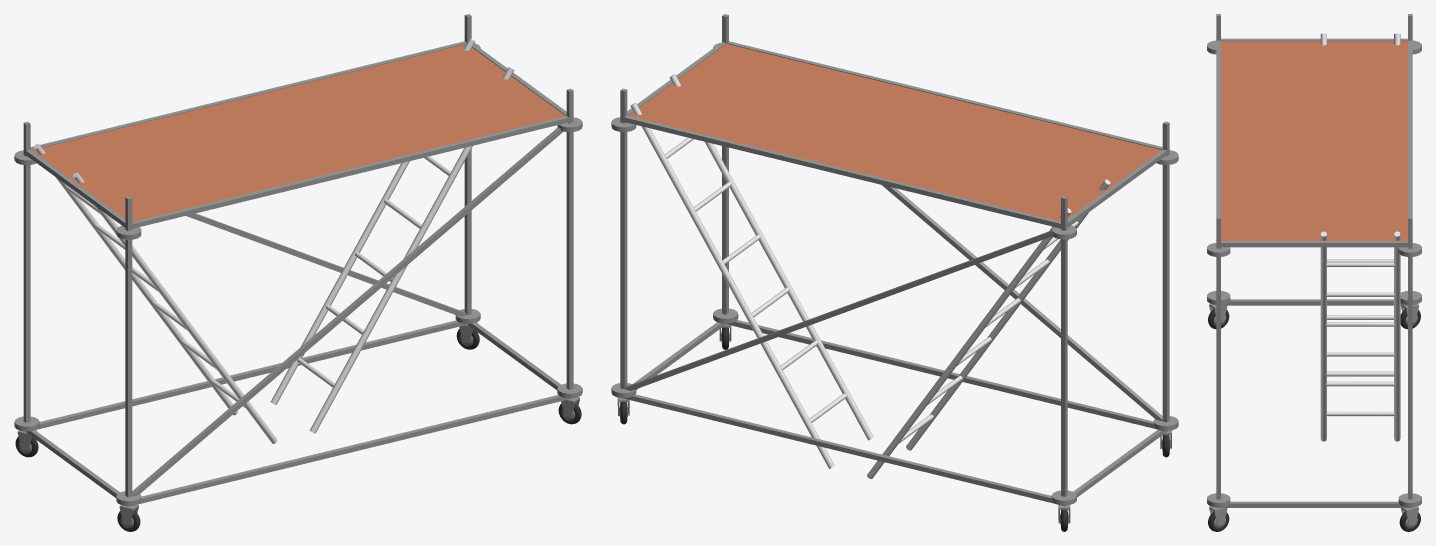
The model's file is les_v1.glb.
The picture shows the model from 3 angles, left to right: view 1: azimuth 30°, elevation 25°; view 2: azimuth 150°, elevation 25°; view 3: azimuth 270°, elevation 25°; orthographic projection. The views are drawn at different scales.
Visible parts, largest first — view 1: verh0_, Box038, Box033, Box024, Box017, Box016, Cylinder020, Box031, Box028, Box030, Box037, Cylinder012 (+8 smaller); view 2: verh0_, Box038, Box023, Box016, Box032, Box017, Cylinder018, Box033, Cylinder020, Box027, Box031, Cylinder009 (+7 smaller); view 3: Box038, verh0_, Box037, Cylinder020, Cylinder018, Box028, Box027, Box025, Box021, Box022, Box023, Box024 (+12 smaller).
Part boxes in pixels (x1=…): verh0_: x1=31, y1=44, x2=565, y2=221; Box038: x1=104, y1=75, x2=564, y2=213; Box033: x1=132, y1=127, x2=563, y2=495; Box024: x1=130, y1=116, x2=571, y2=229; Box017: x1=138, y1=395, x2=571, y2=504; Box016: x1=36, y1=320, x2=467, y2=429; Cylinder020: x1=310, y1=67, x2=514, y2=433; Box031: x1=125, y1=196, x2=132, y2=506; Box028: x1=566, y1=88, x2=573, y2=398; Box030: x1=23, y1=121, x2=30, y2=431; Box037: x1=231, y1=44, x2=539, y2=190; Cylinder012: x1=73, y1=172, x2=277, y2=443; verh0_: x1=628, y1=44, x2=1158, y2=221; Box038: x1=678, y1=44, x2=1161, y2=220; Box023: x1=622, y1=115, x2=1062, y2=228; Box016: x1=622, y1=394, x2=1062, y2=505; Box032: x1=625, y1=230, x2=1052, y2=390; Box017: x1=726, y1=320, x2=1156, y2=429; Cylinder018: x1=630, y1=103, x2=834, y2=468; Box033: x1=882, y1=185, x2=1162, y2=420; Cylinder020: x1=669, y1=74, x2=873, y2=440; Box027: x1=620, y1=88, x2=627, y2=389; Box031: x1=1162, y1=121, x2=1169, y2=422; Cylinder009: x1=867, y1=208, x2=1071, y2=478; Box038: x1=1221, y1=41, x2=1407, y2=240; verh0_: x1=1221, y1=41, x2=1407, y2=240; Box037: x1=1221, y1=44, x2=1407, y2=240; Cylinder020: x1=1320, y1=231, x2=1326, y2=441; Cylinder018: x1=1394, y1=231, x2=1400, y2=441; Box028: x1=1216, y1=216, x2=1220, y2=507; Box027: x1=1408, y1=216, x2=1412, y2=507; Box025: x1=1218, y1=241, x2=1410, y2=247; Box021: x1=1219, y1=501, x2=1409, y2=507; Box022: x1=1221, y1=299, x2=1407, y2=305; Box023: x1=1408, y1=40, x2=1412, y2=216; Box024: x1=1216, y1=40, x2=1220, y2=216.
Size of the model in its own units: 315 by 218 by 134.
